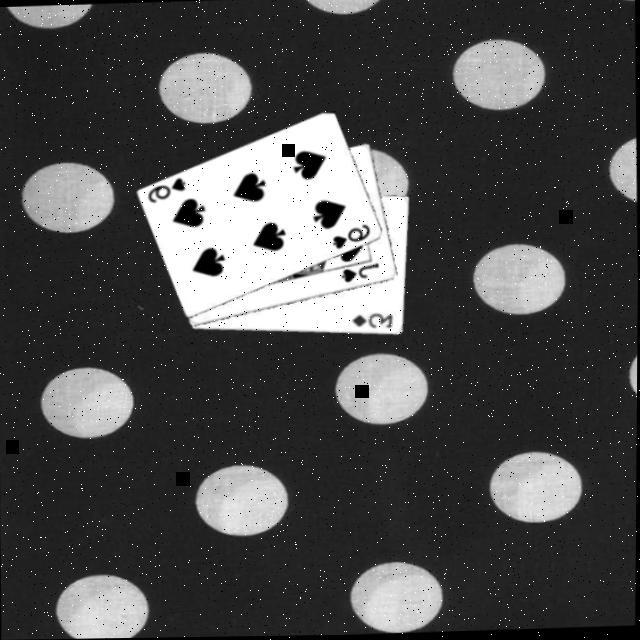3D: (351, 311, 397, 335)
6S: (146, 175, 191, 207), (331, 223, 375, 254)
JS: (340, 261, 383, 287)
